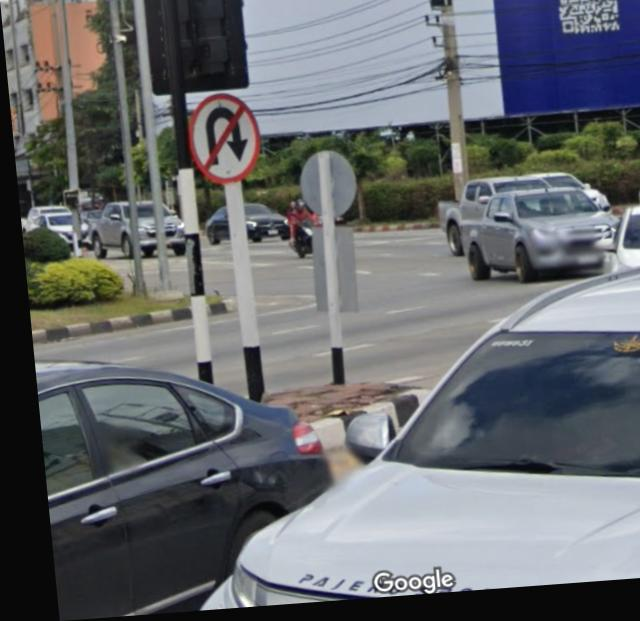not_u_turn_right: (178, 93, 263, 187)
